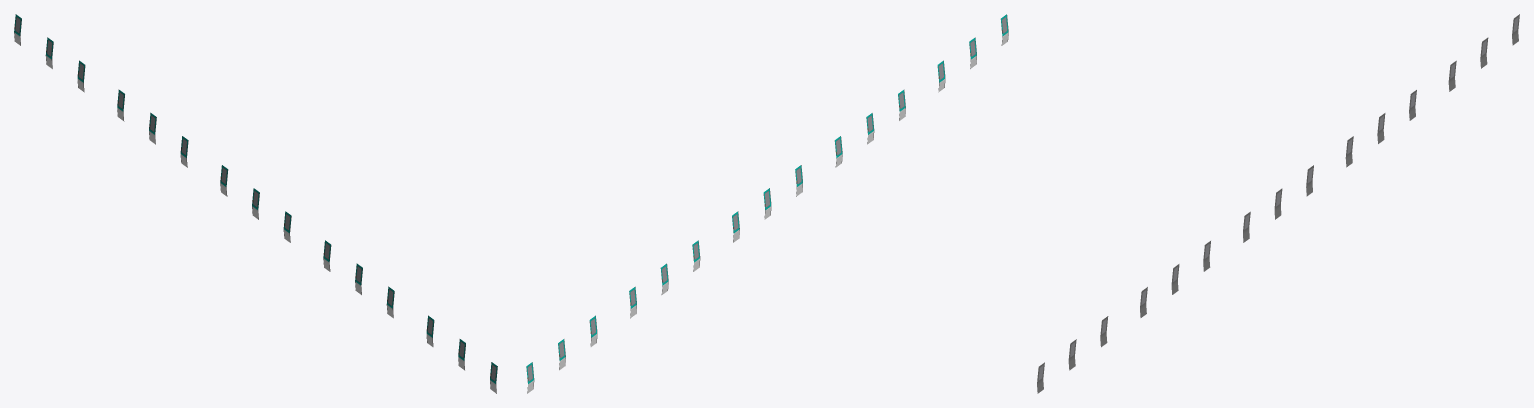
File: mf77doorright.glb
3 views of the same model, side by side, from view 1: azimuth 30°, elevation 25°; view 2: azimuth 150°, elevation 25°; view 3: azimuth 330°, elevation 25° (orthographic).
Size of the model in its own units: 0.179 by 2.18 by 69.69.
